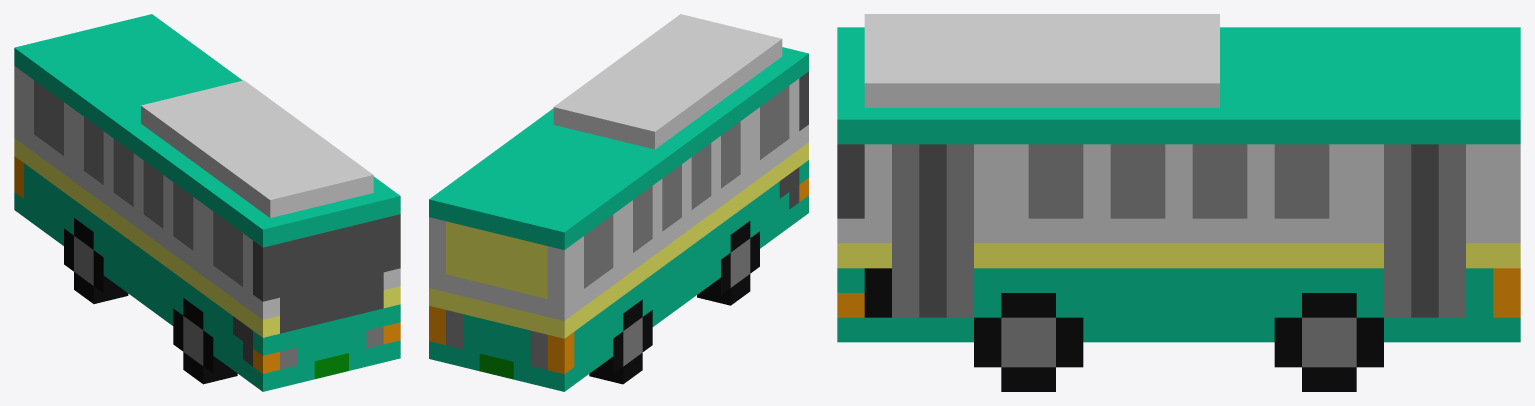
File: Bus.fbx
The picture shows the model from 3 angles, left to right: view 1: azimuth 30°, elevation 25°; view 2: azimuth 150°, elevation 25°; view 3: azimuth 270°, elevation 25°; orthographic projection. The views are drawn at different scales.
Parts seen in each view (by area): view 1: 立方体.1849, 立方体.1649, 立方体.1655, 立方体.1650, 立方体.1651, 立方体.1652, 立方体.1654, 立方体.1850, 立方体.1853, 立方体.1851, 立方体.1854, 立方体.1656 (+72 smaller); view 2: 立方体.1841, 立方体.1921, 立方体.1641, 立方体.1441, 立方体.241, 立方体.1041, 立方体.1241, 立方体.441, 立方体.841, 立方体.641, 立方体.1842, 立方体.1843 (+59 smaller); view 3: 立方体.1656, 立方体.1680, 立方体.1704, 立方体.1728, 立方体.1752, 立方体.1776, 立方体.1800, 立方体.1824, 立方体.1848, 立方体.1866, 立方体.1884, 立方体.1902 (+238 smaller).
Part boxes in pixels (<box>): 立方体.1849: <box>260,188,287,217</box>; 立方体.1649: <box>253,218,279,247</box>; 立方体.1655: <box>356,193,383,222</box>; 立方体.1650: <box>270,214,297,243</box>; 立方体.1651: <box>288,210,314,239</box>; 立方体.1652: <box>305,205,331,234</box>; 立方体.1654: <box>339,197,366,226</box>; 立方体.1850: <box>278,184,304,213</box>; 立方体.1853: <box>329,172,356,201</box>; 立方体.1851: <box>295,180,321,209</box>; 立方体.1854: <box>347,167,373,196</box>; 立方体.1656: <box>374,189,400,217</box>; 立方体.1841: <box>547,221,574,249</box>; 立方体.1921: <box>638,120,664,149</box>; 立方体.1641: <box>547,243,574,267</box>; 立方体.1441: <box>547,261,574,285</box>; 立方体.241: <box>547,367,574,391</box>; 立方体.1041: <box>547,296,574,320</box>; 立方体.1241: <box>547,279,574,303</box>; 立方体.441: <box>547,349,574,374</box>; 立方体.841: <box>547,314,574,338</box>; 立方体.641: <box>547,332,574,356</box>; 立方体.1842: <box>530,217,556,245</box>; 立方体.1843: <box>513,213,539,241</box>; 立方体.1656: <box>837,108,864,144</box>; 立方体.1680: <box>919,108,946,144</box>; 立方体.1704: <box>1001,108,1028,144</box>; 立方体.1728: <box>1083,108,1110,144</box>; 立方体.1752: <box>1165,108,1192,144</box>; 立方体.1776: <box>1247,108,1274,144</box>; 立方体.1800: <box>1329,108,1356,144</box>; 立方体.1824: <box>1411,108,1438,144</box>; 立方体.1848: <box>1493,108,1520,144</box>; 立方体.1866: <box>919,71,946,107</box>; 立方体.1884: <box>1001,71,1028,107</box>; 立方体.1902: <box>1083,71,1110,107</box>.
Size of the model in its own units: 800 by 1200 by 2500.
